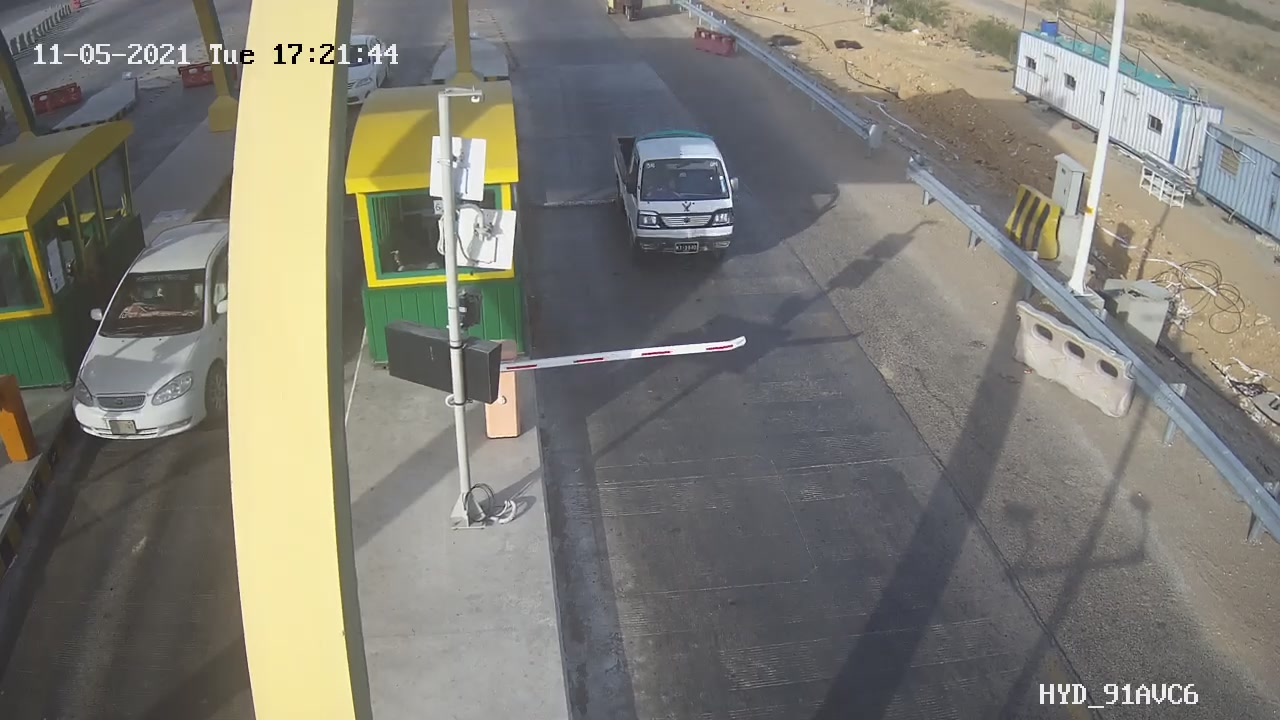F1: (596, 117, 755, 279)
